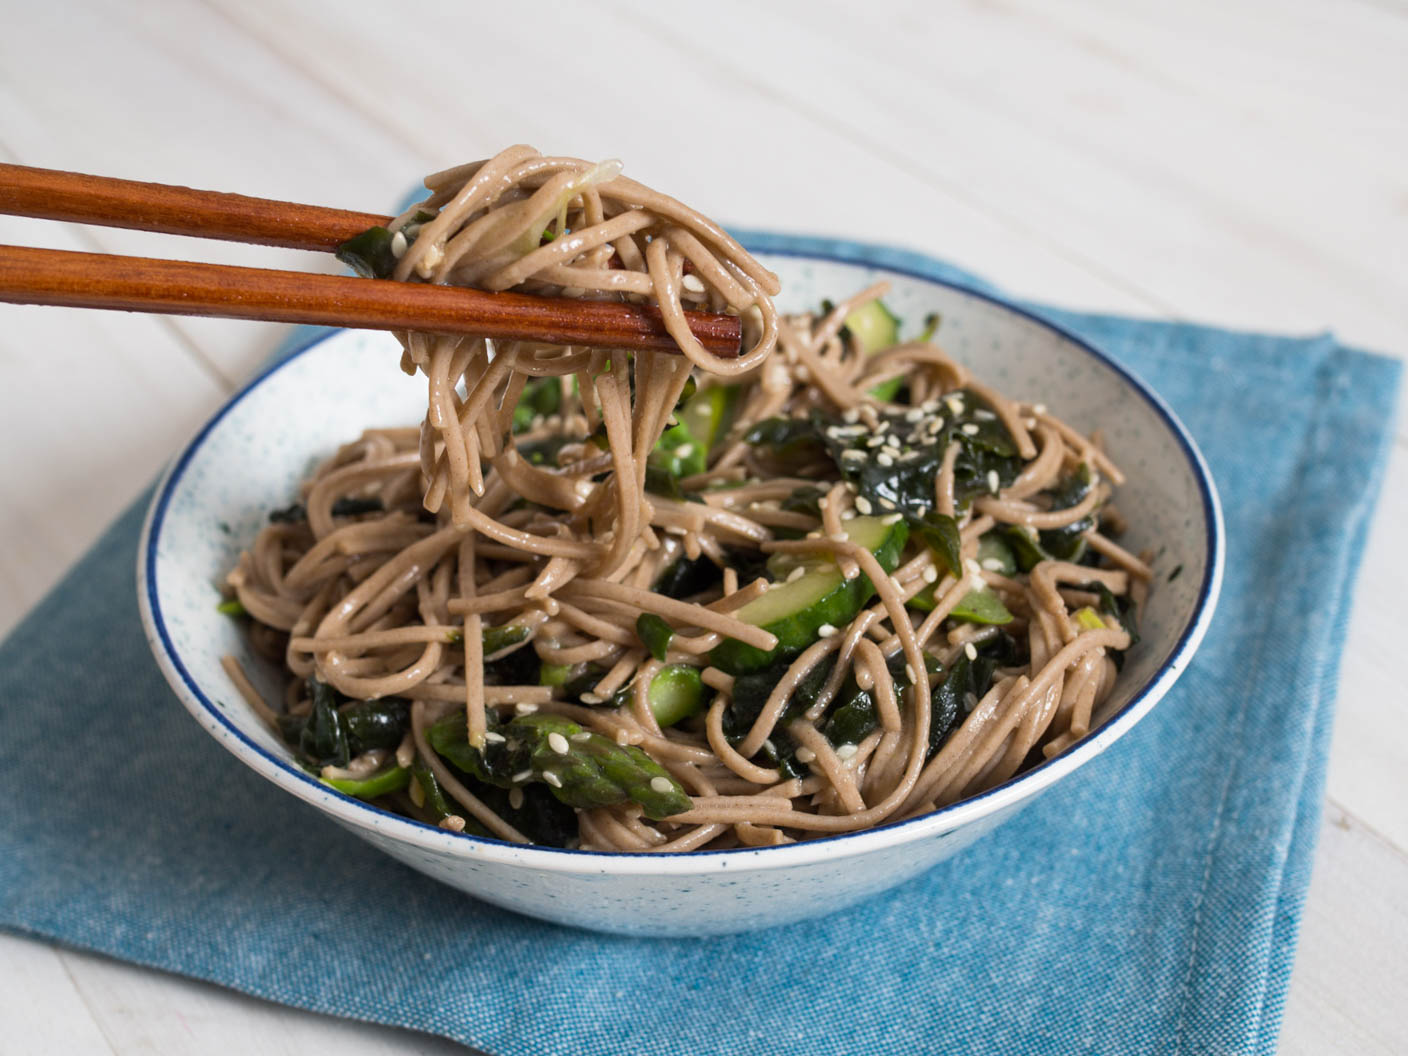Soba: (226, 153, 1184, 866)
